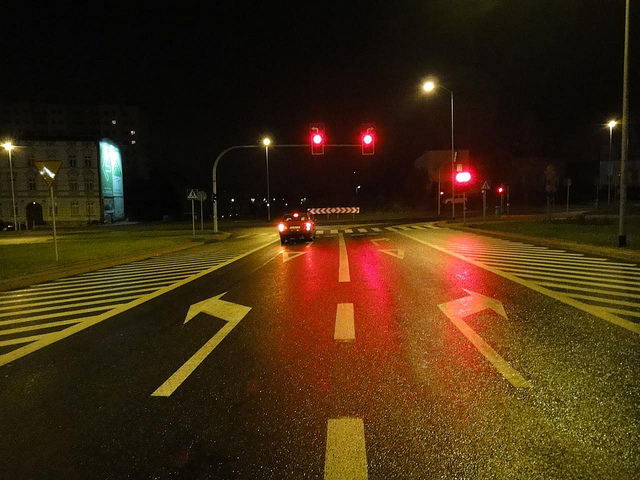car: (277, 209, 320, 248)
